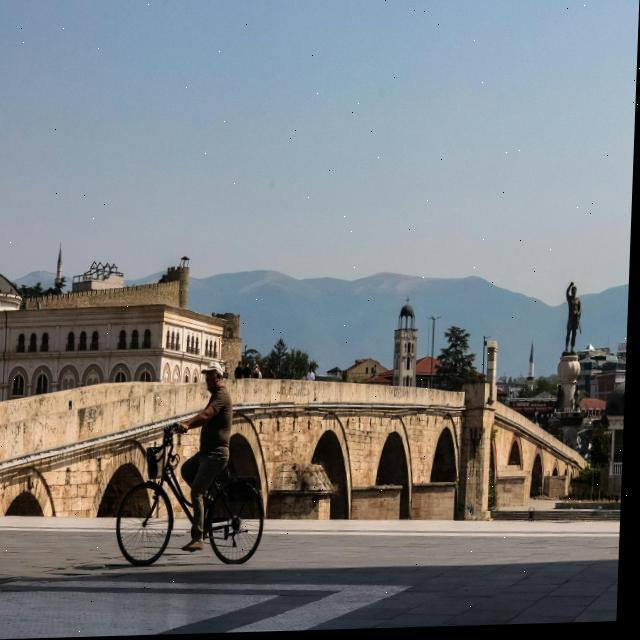Stone Bridge: (0, 282, 589, 556)
